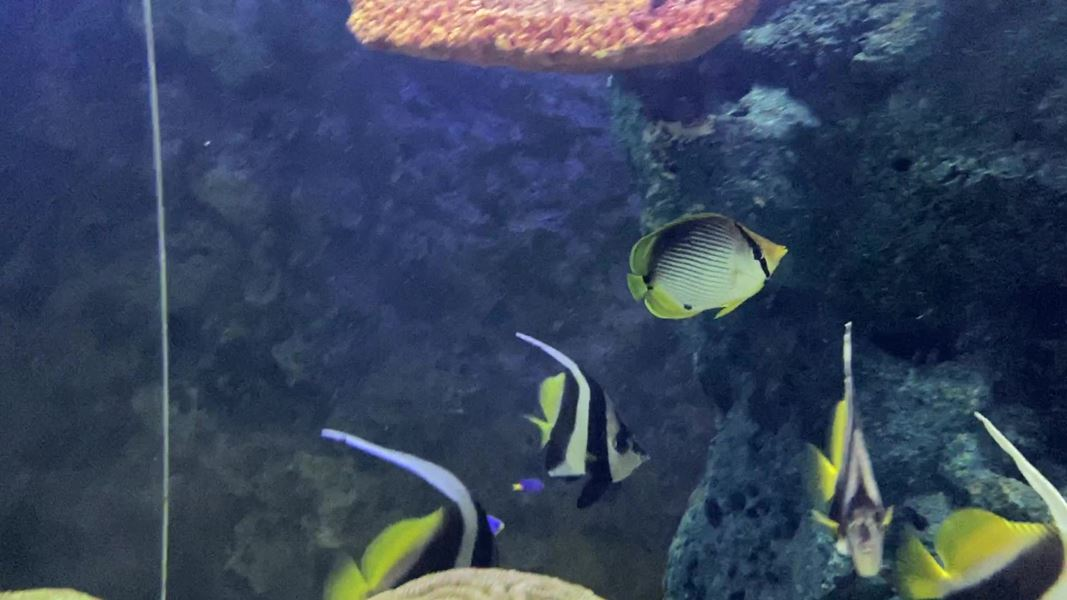Black-backed butterflyfish: (607, 202, 797, 330)
